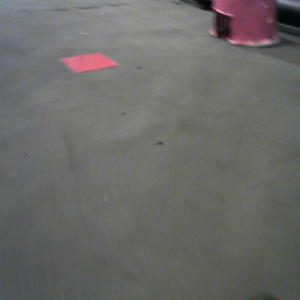Right: (206, 1, 282, 46)
